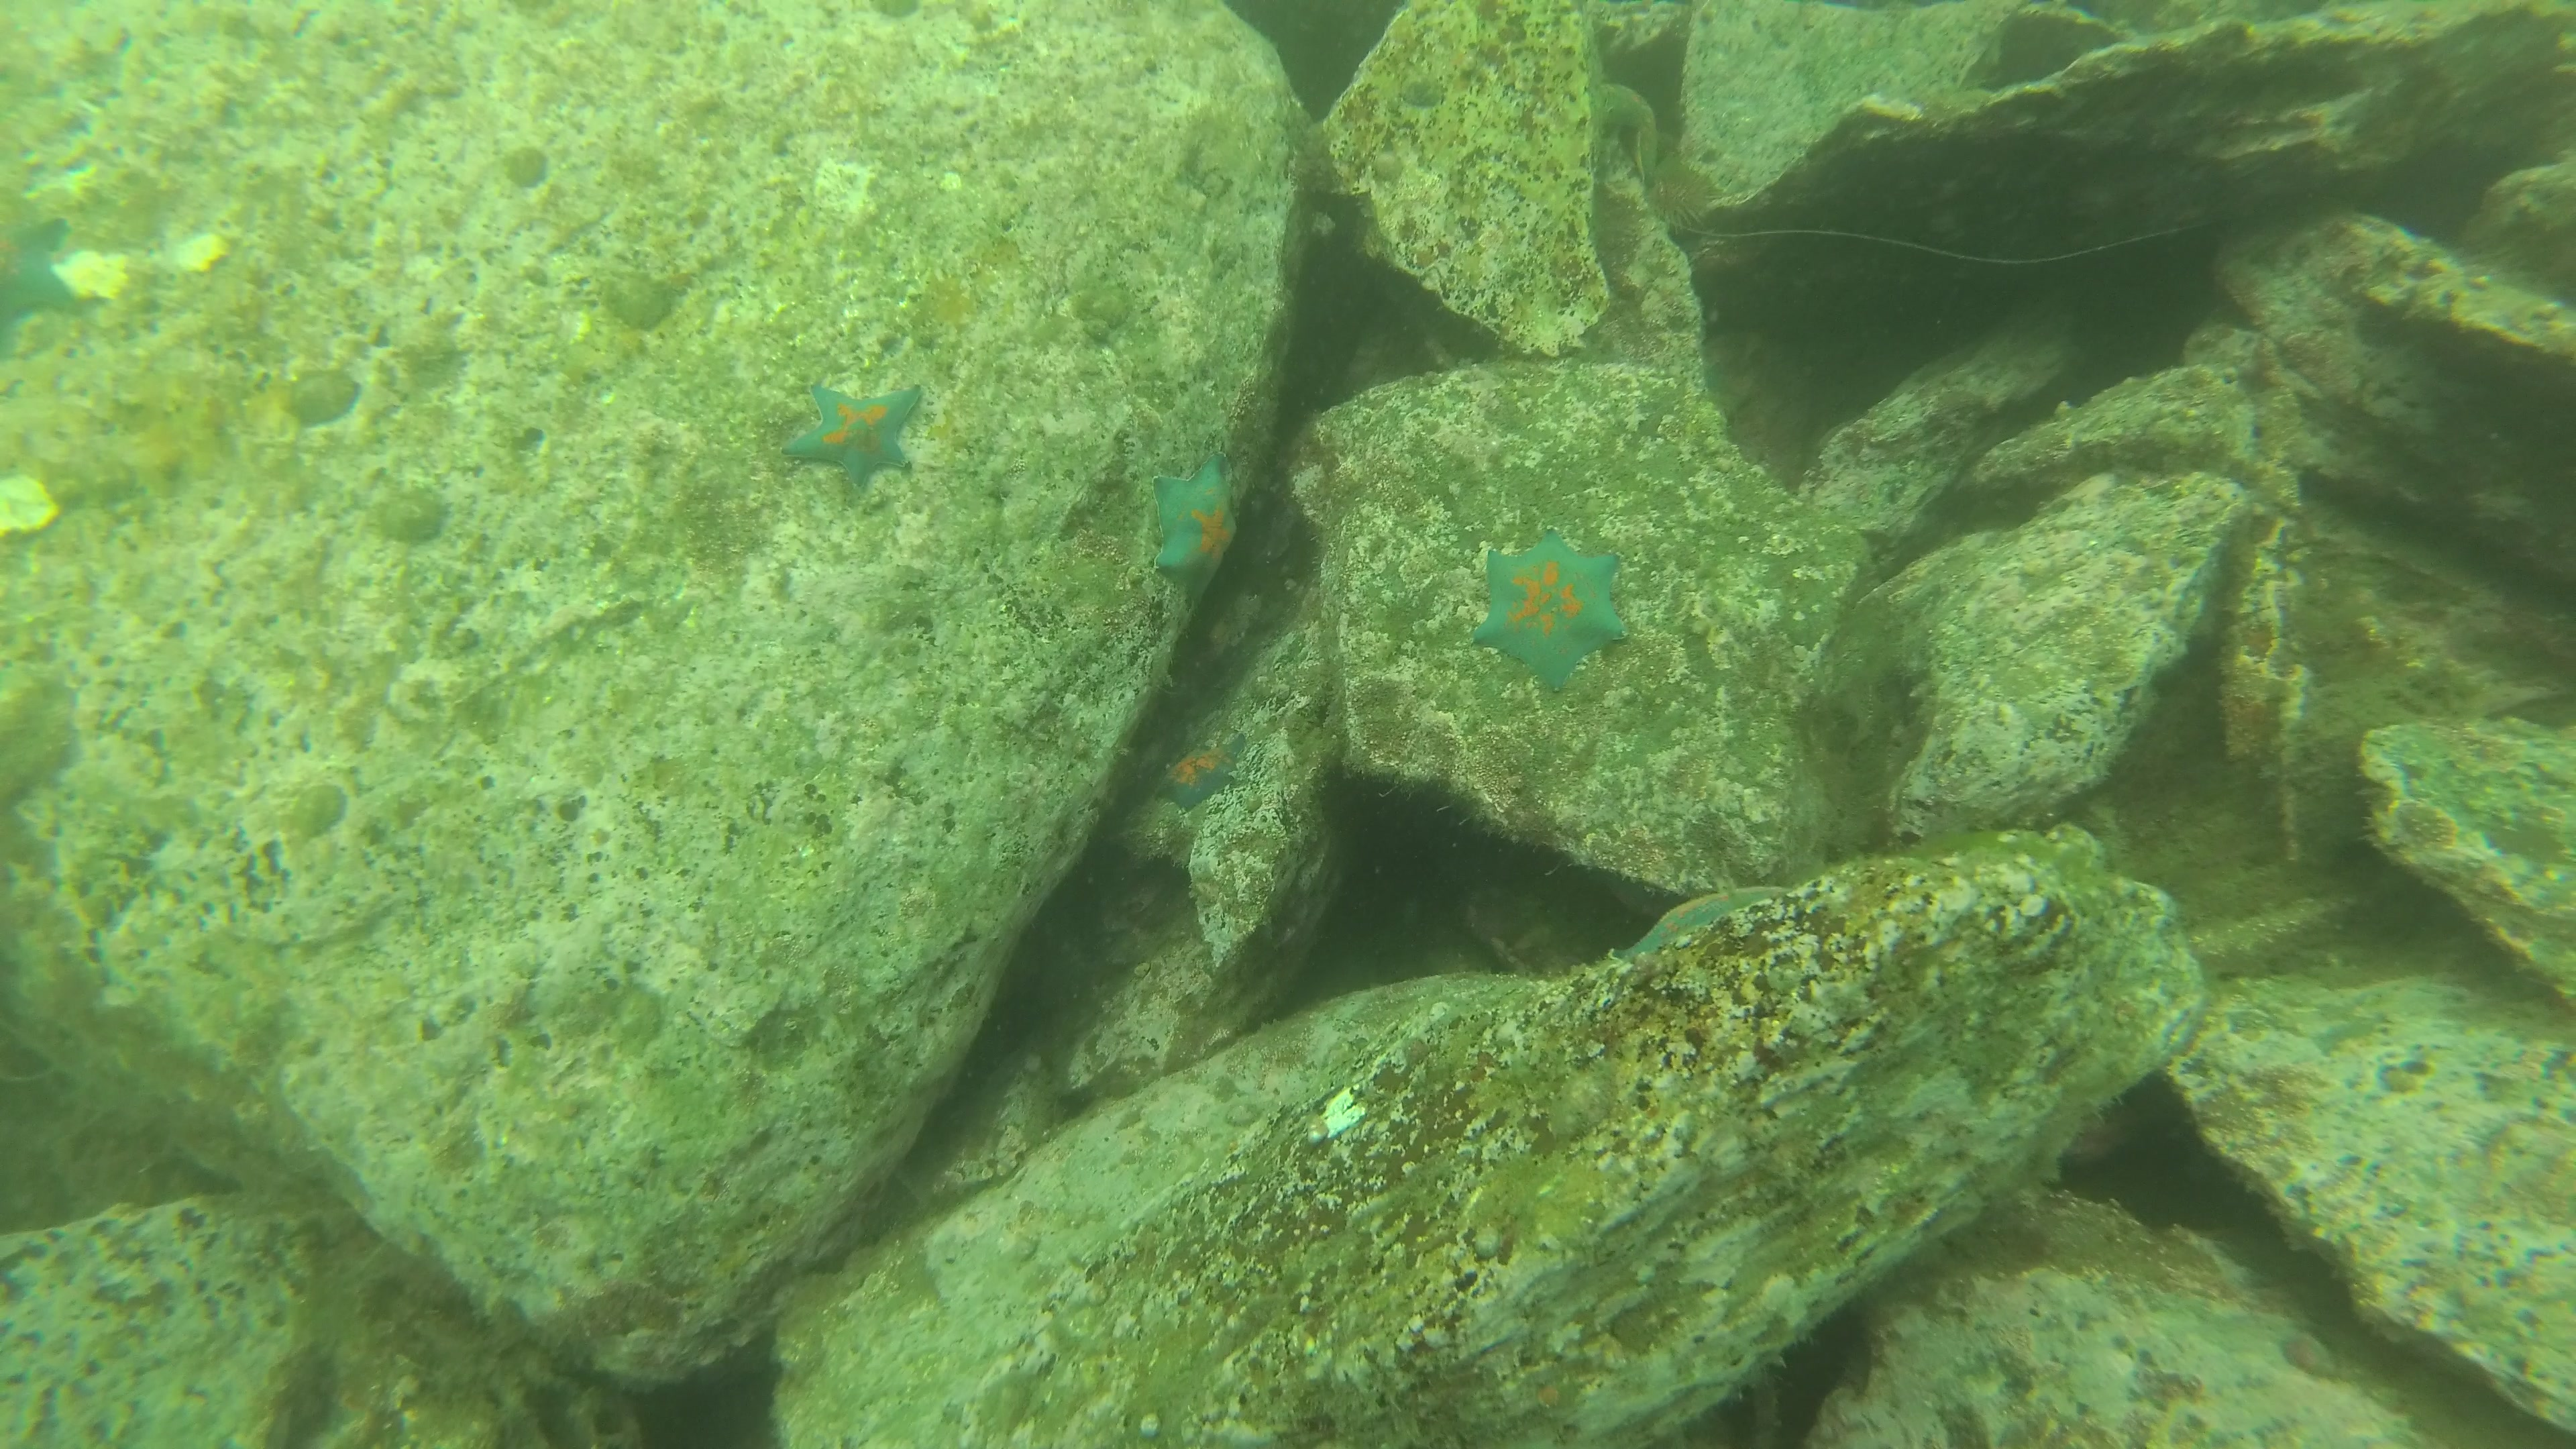echinus: (1645, 156, 1723, 235)
starfish: (1472, 525, 1628, 692), (780, 382, 922, 488), (1610, 888, 1798, 962), (1150, 453, 1240, 605), (0, 216, 74, 356), (1154, 732, 1246, 812), (1598, 83, 1660, 188)
